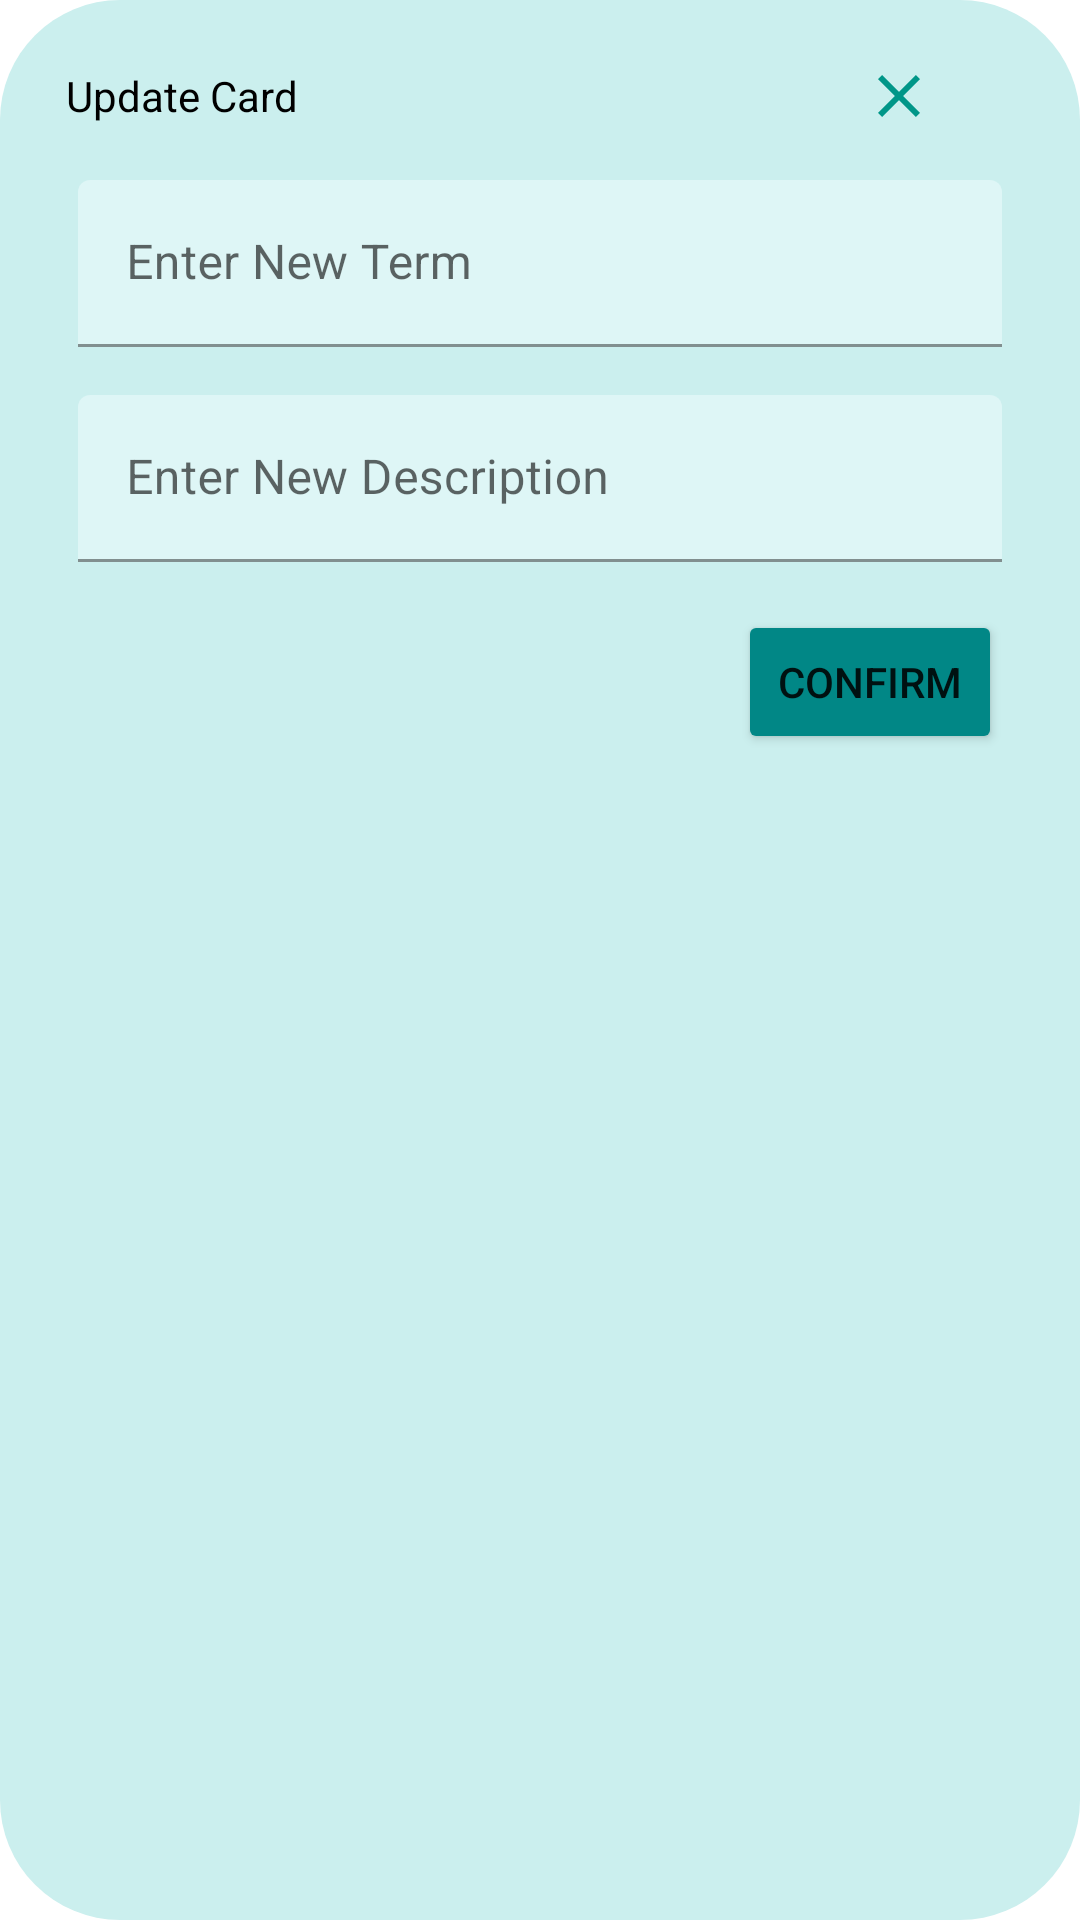

Icon click points for this 1080w x 1920h phone screenshot, format (x,y):
clear: (899,96)
